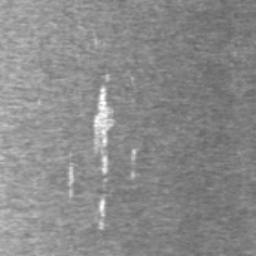White rust: (93, 85, 118, 175), (67, 161, 75, 197), (98, 196, 106, 217), (131, 147, 139, 162), (104, 72, 109, 83), (99, 220, 104, 230)
